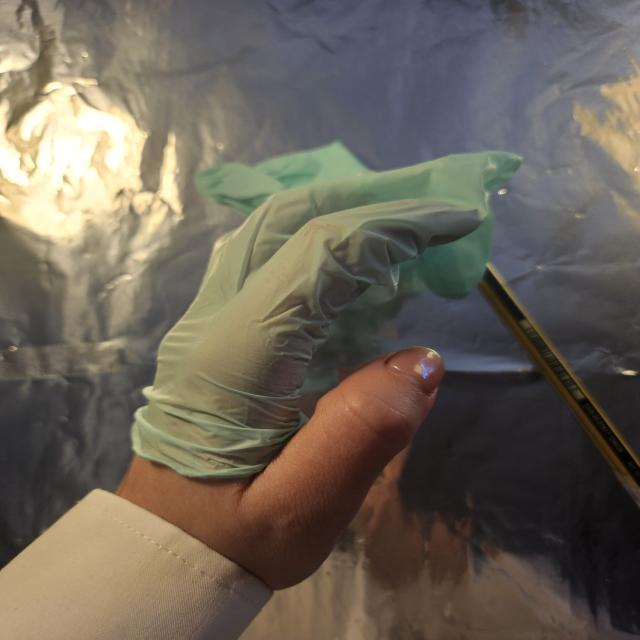glove_partial: (127, 151, 526, 598)
